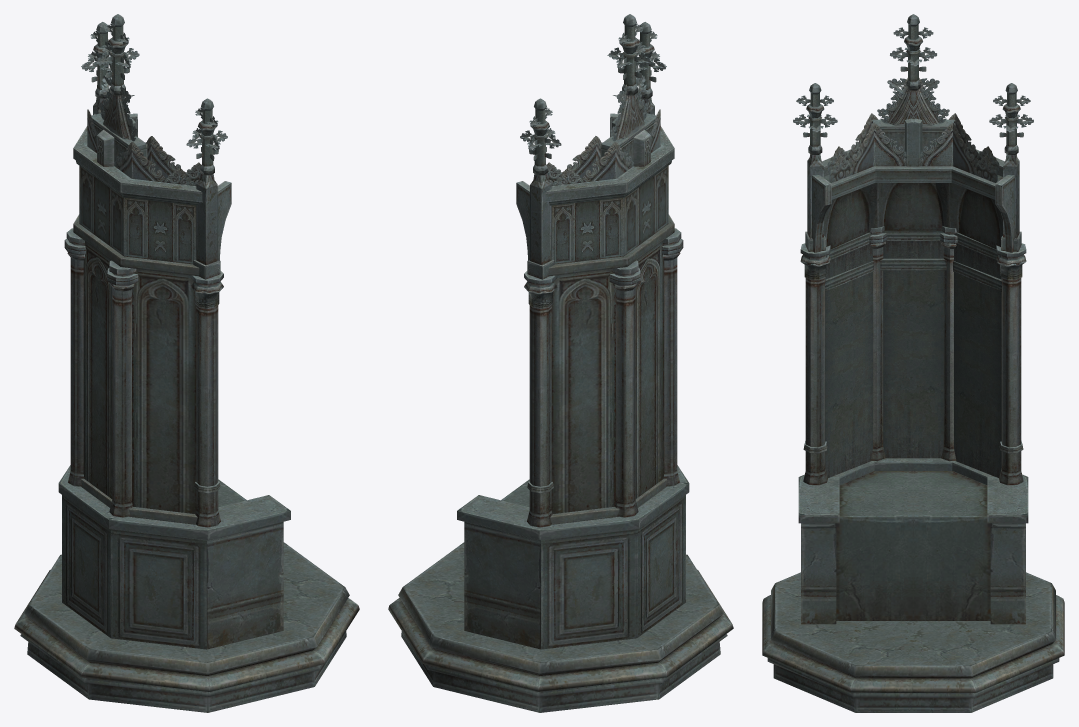
Rendered from bg_lut_lucastle_herostatue03a_sm_artree.FBX.
The picture shows the model from 3 angles, left to right: view 1: azimuth 30°, elevation 25°; view 2: azimuth 150°, elevation 25°; view 3: azimuth 270°, elevation 25°; orthographic projection. The views are drawn at different scales.
Visible parts, largest first — view 1: bg_lut_lucastle_herostatue03a_sm_artree; view 2: bg_lut_lucastle_herostatue03a_sm_artree; view 3: bg_lut_lucastle_herostatue03a_sm_artree.
Boxes of the visible parts, x1,y1,x2,y2 form: bg_lut_lucastle_herostatue03a_sm_artree: (14,14,359,712); bg_lut_lucastle_herostatue03a_sm_artree: (388,14,733,712); bg_lut_lucastle_herostatue03a_sm_artree: (762,14,1064,712).
Bounding box in the file's own units: 183 × 407 × 183.
